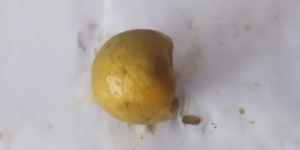BAD: (89, 27, 182, 129)
